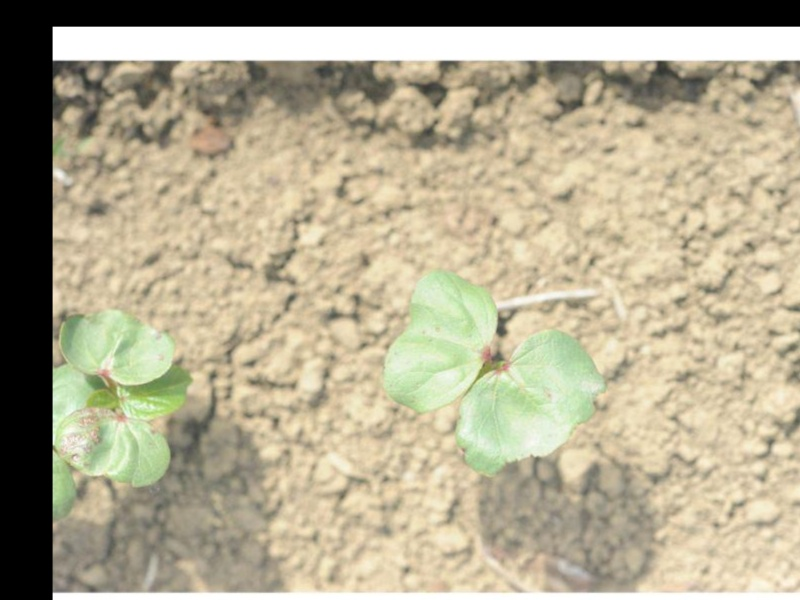cotton: (382, 269, 606, 478), (52, 305, 191, 522)
